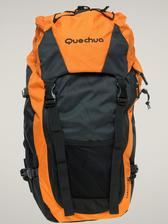bag: (19, 4, 152, 224)
